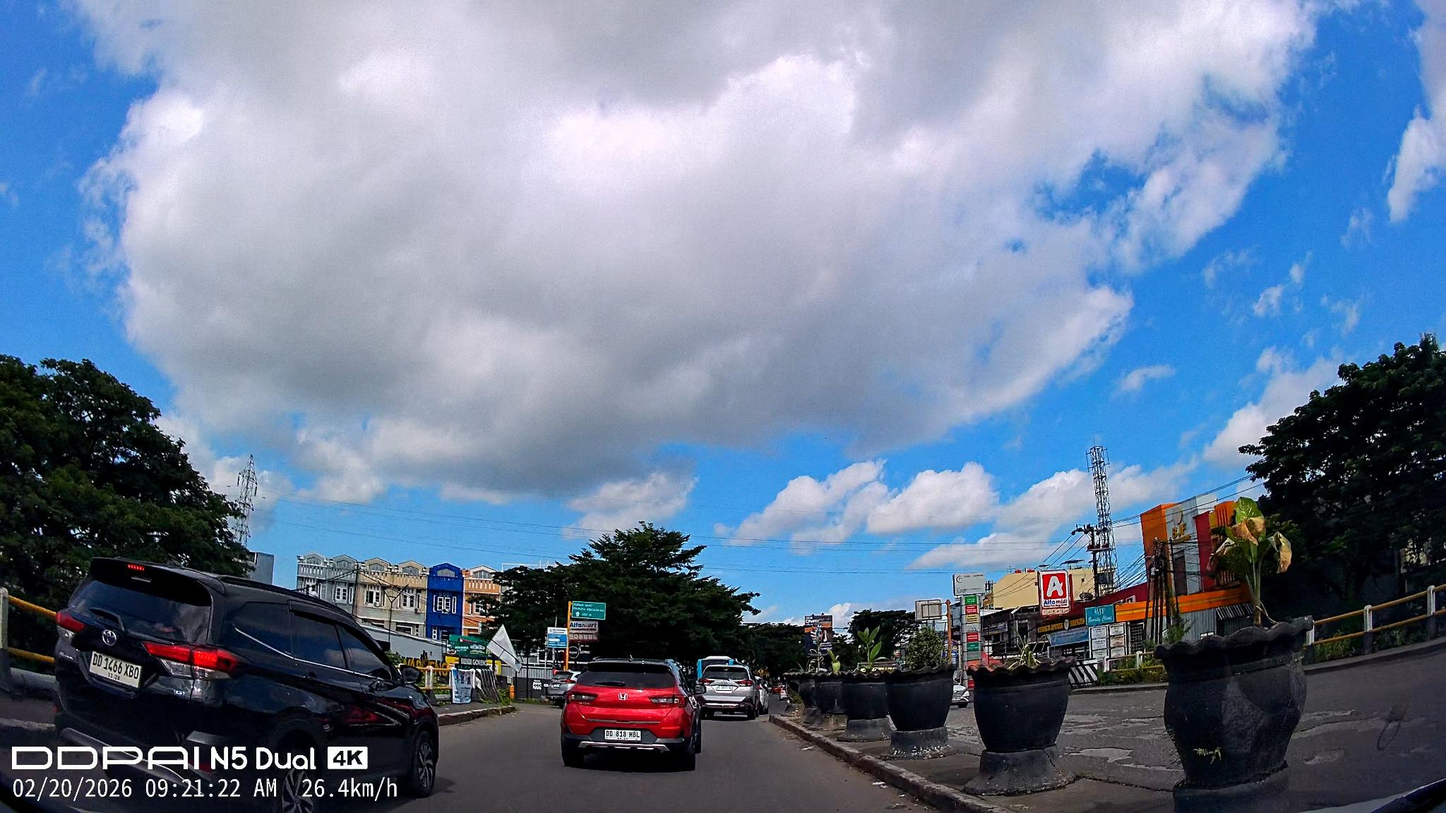rambu_teks: (572, 601, 606, 620)
